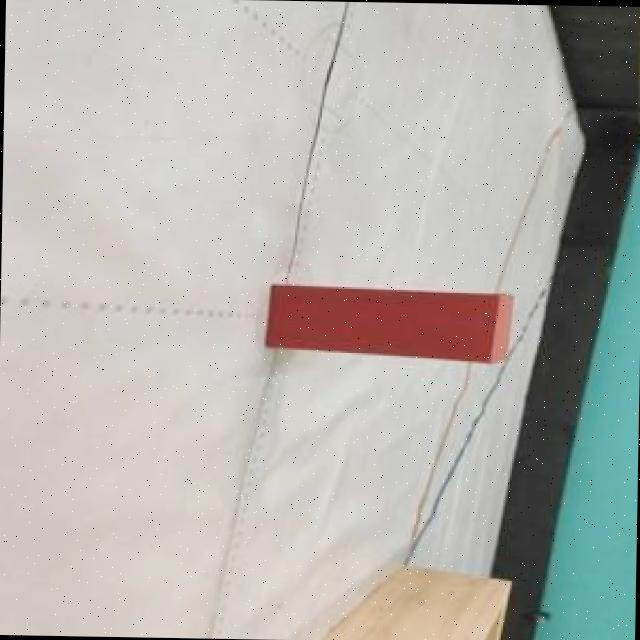redbox: (266, 280, 519, 362)
